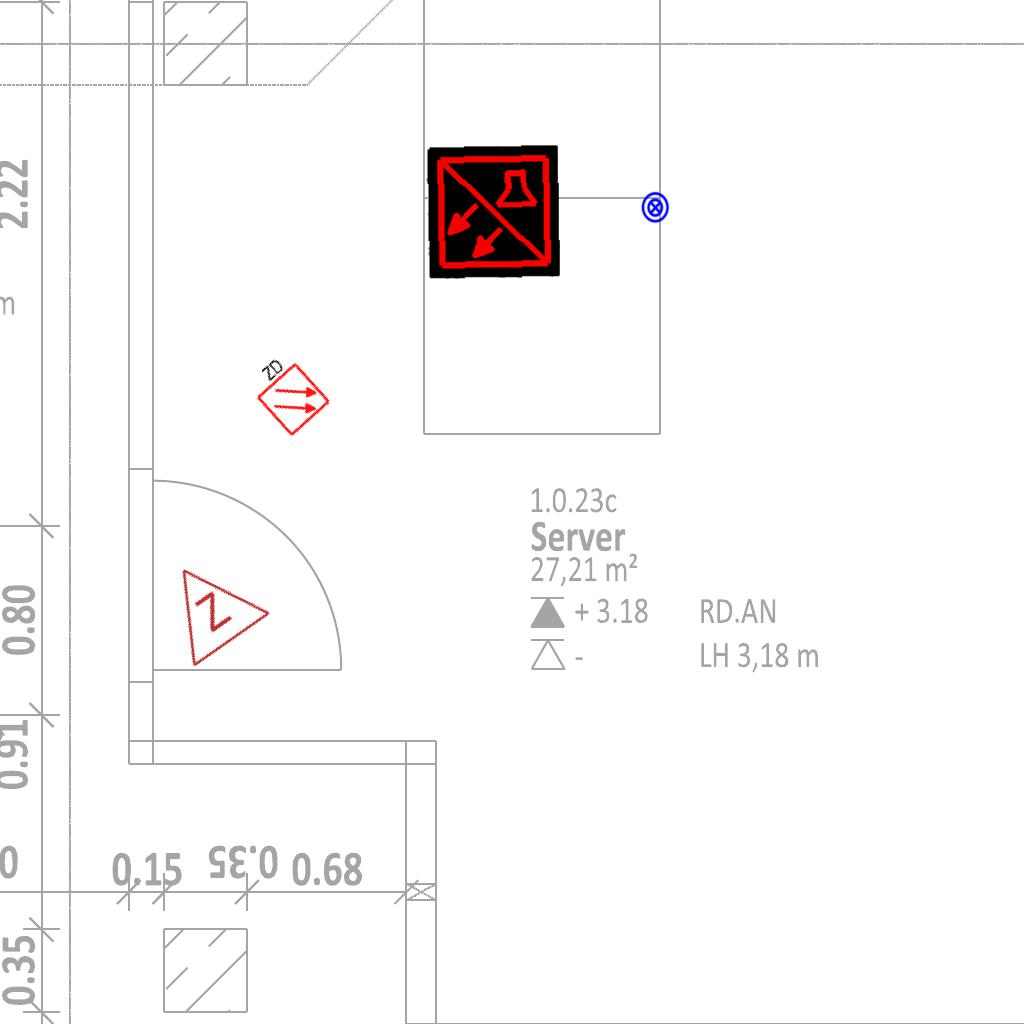OKW_Multisensormelder_(Kombination_optischer_Rauch-Kahlenmonoxid_Waerme-Melder): (425, 144, 561, 280)
Taster_beleuchtet: (639, 191, 672, 224)
ZD_Melder_in_Zwischendecke_mit_Revisionsoeffnung_mind_40_x_40_cm: (240, 346, 333, 440)
Zimmersignalleuchte: (138, 536, 276, 676)
